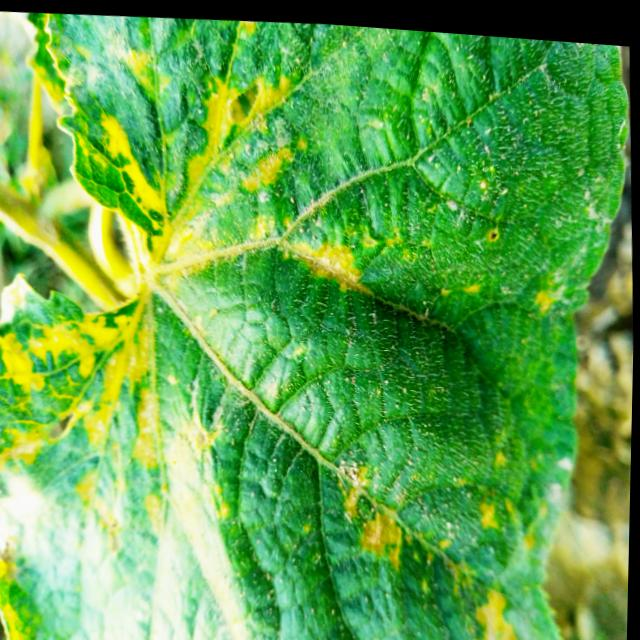Downy-Mildew: (0, 20, 390, 640)
